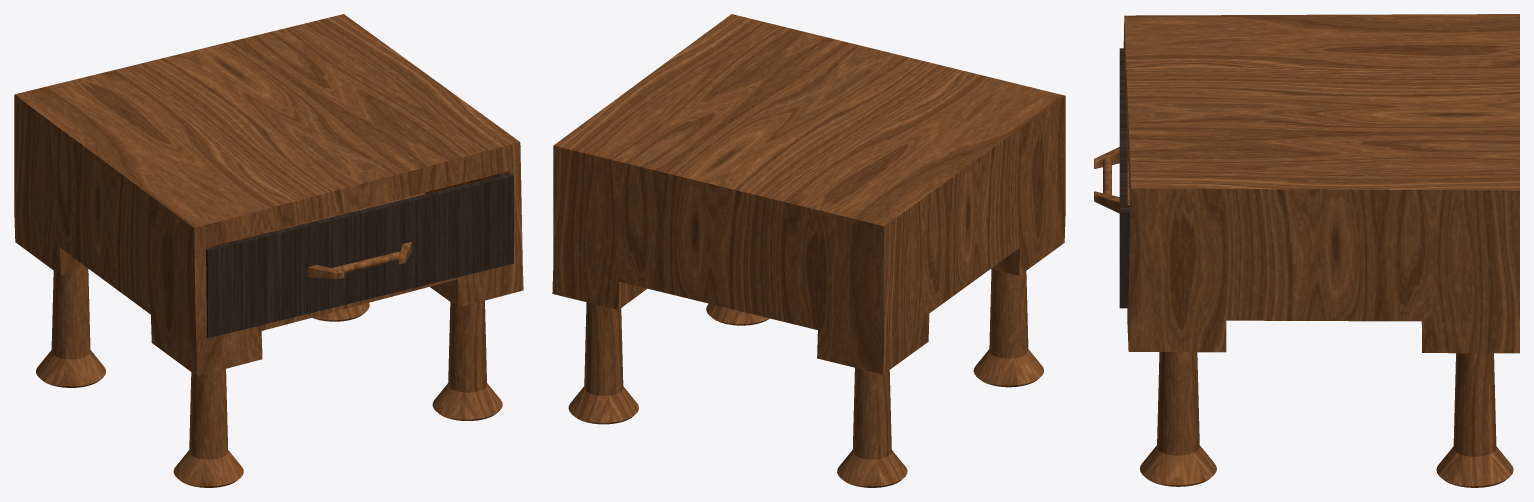
Rendered from tumba.fbx.
The picture shows the model from 3 angles, left to right: view 1: azimuth 30°, elevation 25°; view 2: azimuth 150°, elevation 25°; view 3: azimuth 270°, elevation 25°; orthographic projection. The views are drawn at different scales.
Visible parts, largest first — view 1: Cylinder.022; view 2: Cylinder.022; view 3: Cylinder.022.
Part boxes in pixels (<box>): Cylinder.022: <box>14,14,523,487</box>; Cylinder.022: <box>552,14,1065,487</box>; Cylinder.022: <box>1094,14,1519,487</box>.
Bounding box in the file's own units: 161 × 127 × 163.
Materials: 2 (2 with a texture image).
